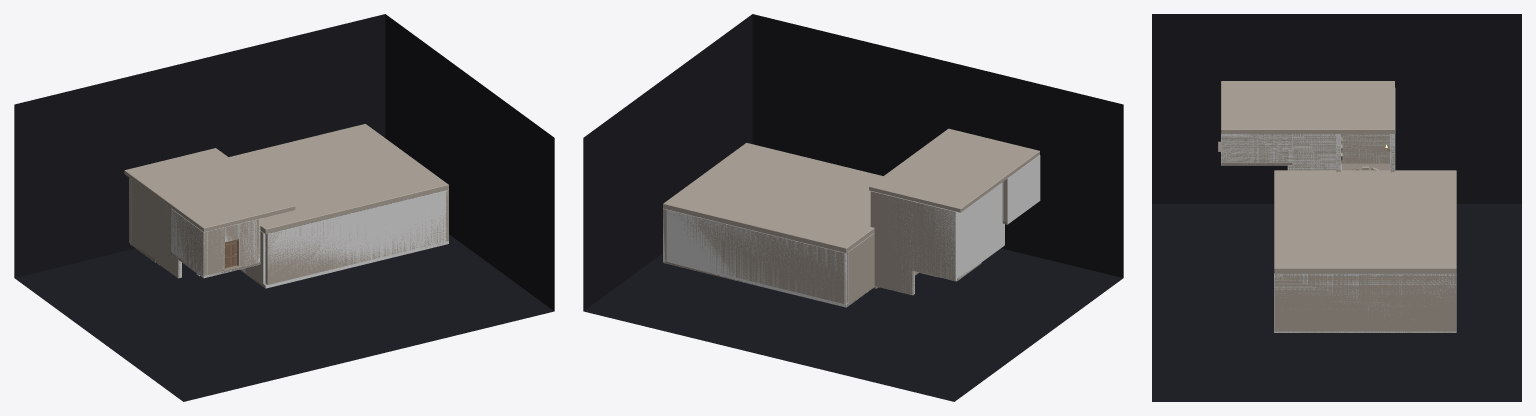
The model's file is museum.glb.
3 renders of one model, left to right at view 1: azimuth 30°, elevation 25°; view 2: azimuth 150°, elevation 25°; view 3: azimuth 270°, elevation 25°, orthographic. The views are drawn at different scales.
Visible parts, largest first — view 1: voidShell, roomCeil, cuboid_roomSouth, shaftCeil, roomSouth, shaftWestA, vestWest, cuboid_vestWest, vestSouthR, vestSouthL, cuboid_roomFloor; view 2: voidShell, roomCeil, shaftCeil, roomNorth, cuboid_roomNorth, shaftNorthB, landNorth, cuboid_shaftWestA, cuboid_vestWest, cuboid_landNorth, roomWestN, cuboid_roomFloor; view 3: voidShell, roomCeil, roomEast, shaftCeil, vestEast, cuboid_roomEast, cuboid_vestEast, shaftEastA, cuboid_shaftEastA, shaftWestA, cuboid_shaftWestA, landFloor.
Part boxes in pixels (x1,y1,x2,y2): voidShell: (14, 14, 554, 401); roomCeil: (229, 124, 448, 233); cuboid_roomSouth: (265, 190, 445, 284); shaftCeil: (124, 148, 295, 231); roomSouth: (266, 215, 443, 284); shaftWestA: (131, 179, 180, 277); vestWest: (171, 208, 207, 275); cuboid_vestWest: (171, 208, 207, 274); vestSouthR: (238, 220, 256, 266); vestSouthL: (207, 227, 224, 274); cuboid_roomFloor: (240, 241, 448, 288); voidShell: (583, 14, 1123, 401); roomCeil: (663, 143, 882, 253); shaftCeil: (869, 128, 1039, 212); roomNorth: (668, 210, 846, 303); cuboid_roomNorth: (666, 209, 846, 303); shaftNorthB: (870, 191, 914, 294); landNorth: (909, 201, 955, 280); cuboid_shaftWestA: (958, 182, 1004, 279); cuboid_vestWest: (1003, 155, 1040, 221); cuboid_landNorth: (909, 200, 957, 281); roomWestN: (846, 233, 874, 303); cuboid_roomFloor: (664, 260, 873, 307); voidShell: (1152, 14, 1521, 401); roomCeil: (1274, 170, 1456, 273); roomEast: (1274, 274, 1456, 331); shaftCeil: (1221, 81, 1394, 133); vestEast: (1221, 134, 1292, 162); cuboid_roomEast: (1274, 273, 1456, 331); cuboid_vestEast: (1221, 134, 1292, 162); shaftEastA: (1288, 134, 1335, 170); cuboid_shaftEastA: (1287, 134, 1335, 170); shaftWestA: (1341, 134, 1389, 163); cuboid_shaftWestA: (1341, 134, 1390, 163); landFloor: (1341, 163, 1390, 170).
Bounding box in the file's own units: 38 × 17 × 30.
